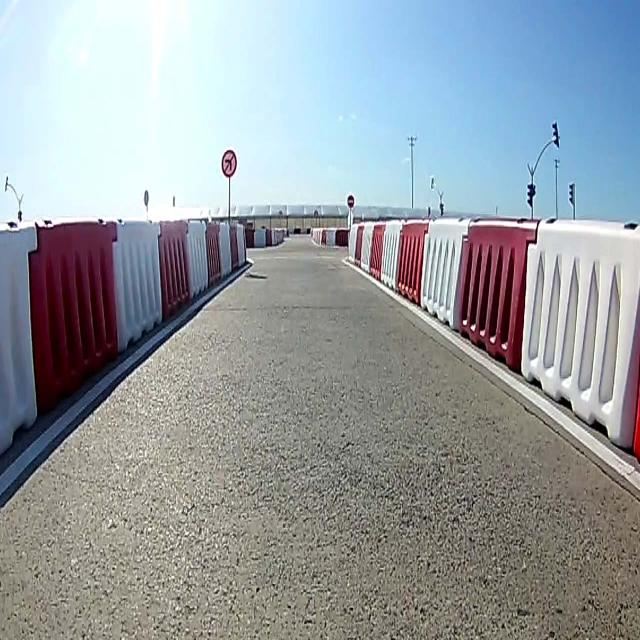girisyok: (346, 192, 354, 206)
soladonulmez: (221, 151, 237, 177)
